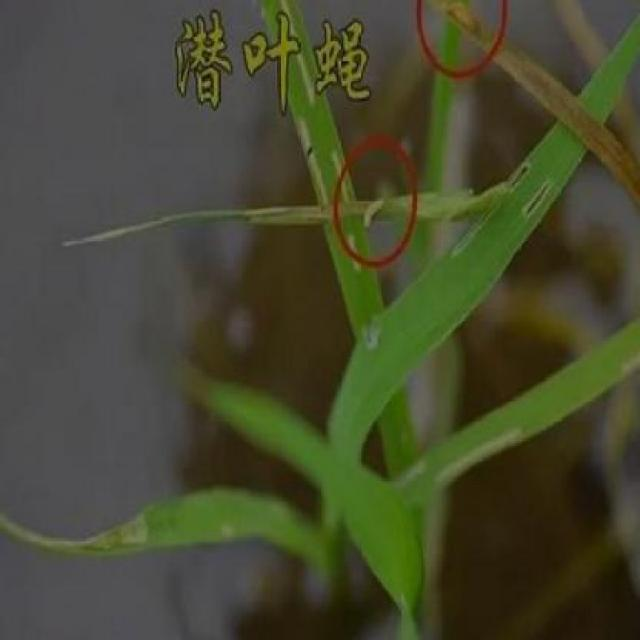whorl-maggot: (362, 185, 384, 237)
